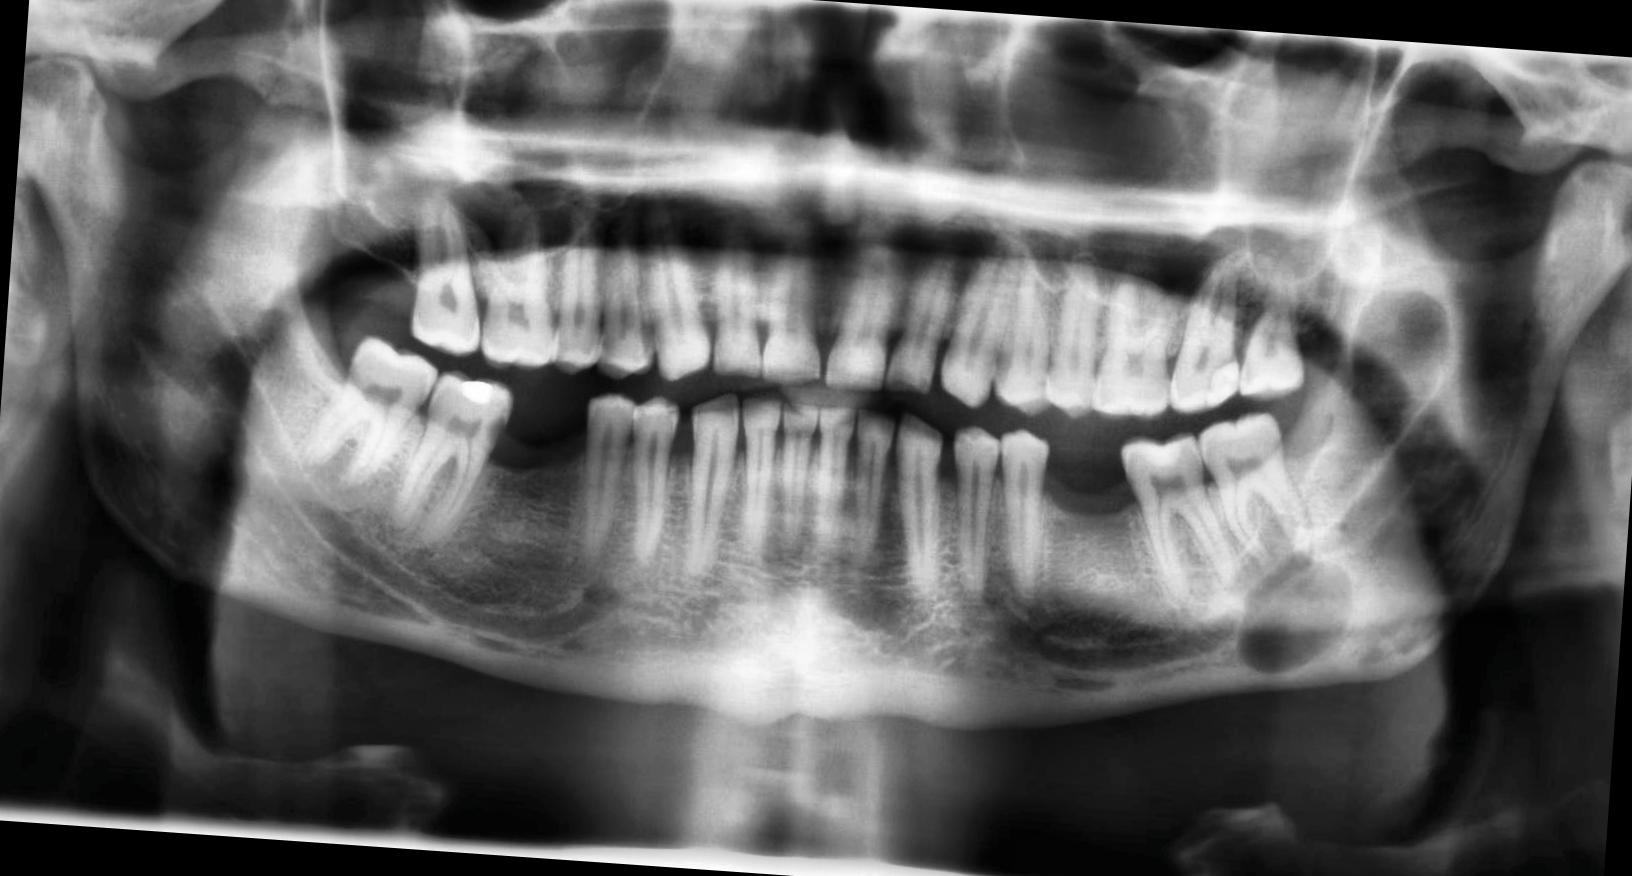okc: (1230, 275, 1498, 694)
